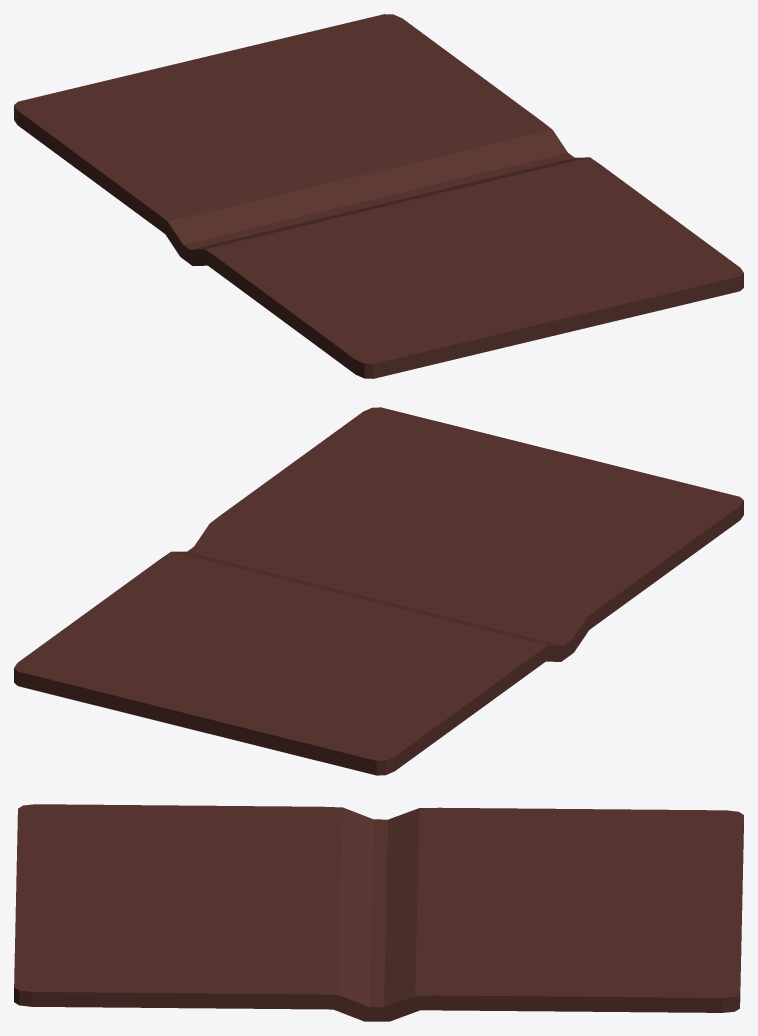
Rendered from federaLibro.fbx.
3 renders of one model, top to bottom at view 1: azimuth 30°, elevation 25°; view 2: azimuth 150°, elevation 25°; view 3: azimuth 270°, elevation 25°, orthographic.
Size of the model in its own units: 36.69 by 2.57 by 59.45.
